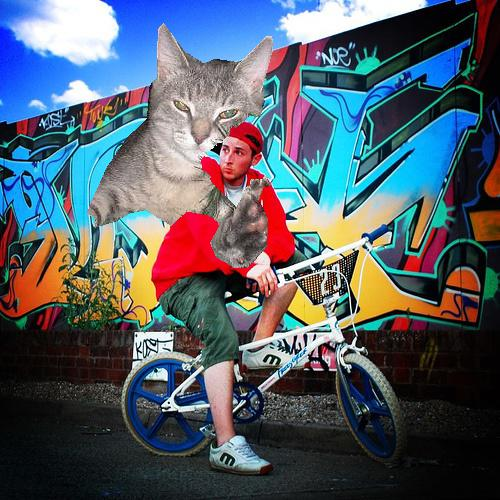tampered: (88, 24, 273, 268)
